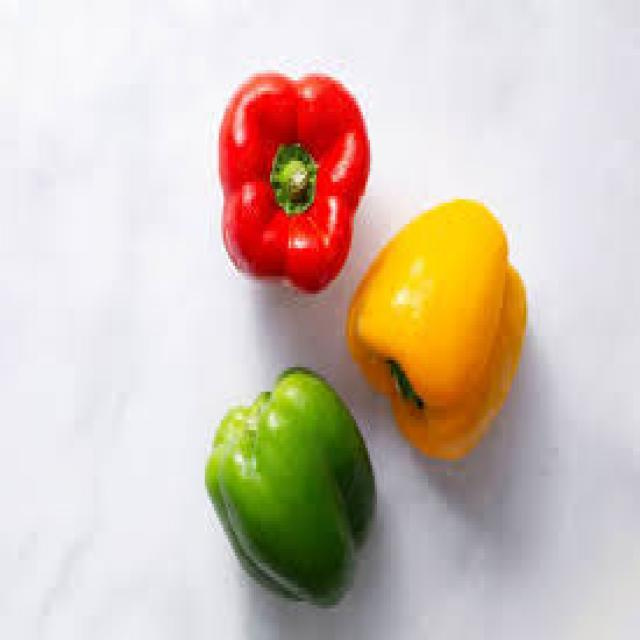Pepper: (344, 199, 529, 464), (203, 367, 378, 611), (217, 72, 371, 296)
